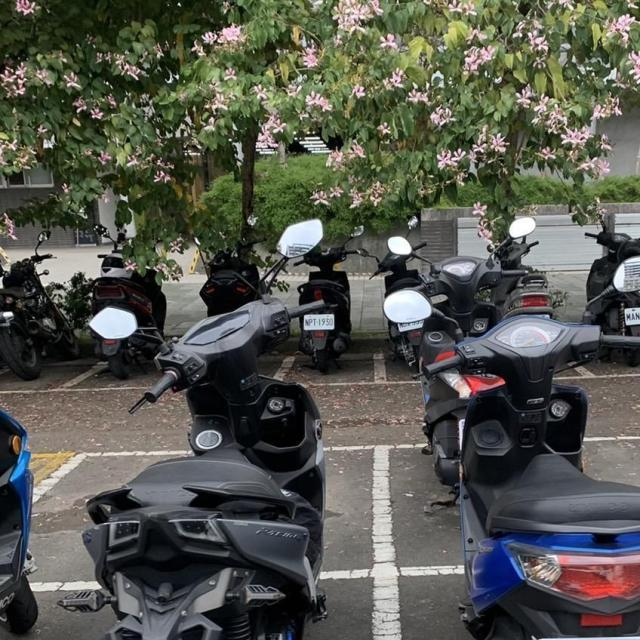W: (298, 309, 340, 335), (618, 302, 640, 325)
